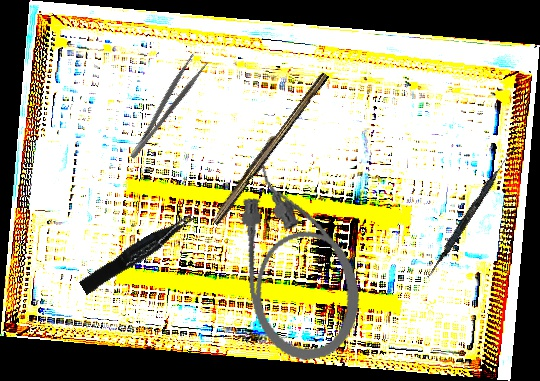Cannula: (226, 151, 370, 369)
Dressing Forceps: (119, 51, 210, 162)
Scalpel Handle: (208, 68, 330, 228)
Spatula Surgical: (425, 143, 517, 282)
Tissue Forceps: (76, 210, 201, 296)
